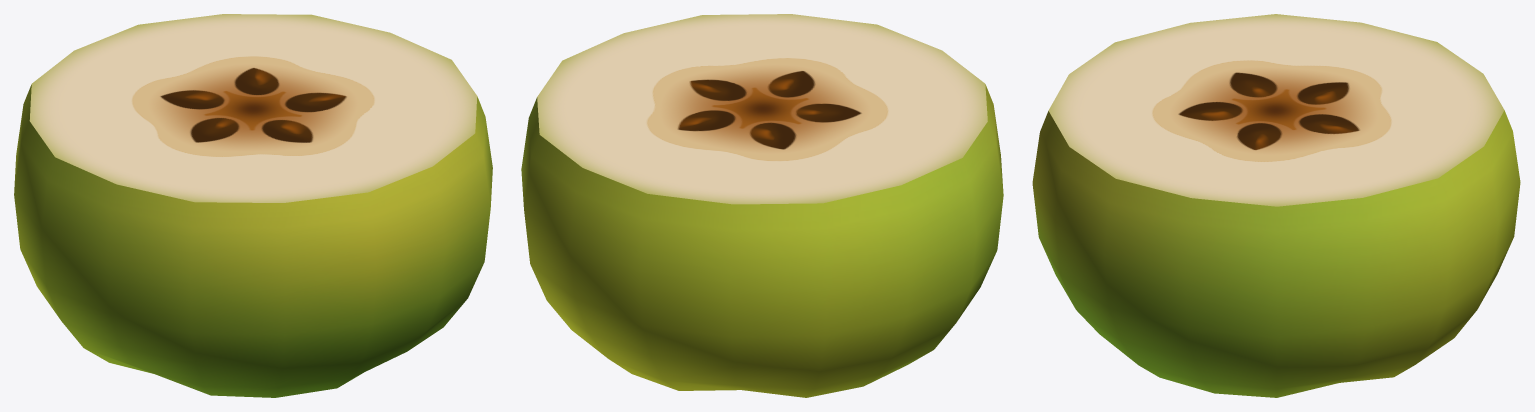
The model's file is Quince_Green_Half_02.fbx.
The picture shows the model from 3 angles, left to right: view 1: azimuth 30°, elevation 25°; view 2: azimuth 150°, elevation 25°; view 3: azimuth 270°, elevation 25°; orthographic projection.
Parts seen in each view (by area): view 1: Quince_Green_Half_02; view 2: Quince_Green_Half_02; view 3: Quince_Green_Half_02.
Part boxes in pixels (x1,y1,x2,y2): Quince_Green_Half_02: (14, 14, 492, 397); Quince_Green_Half_02: (521, 14, 1003, 397); Quince_Green_Half_02: (1032, 14, 1520, 397).
Bounding box in the file's own units: 36.74 × 19.16 × 36.74.
